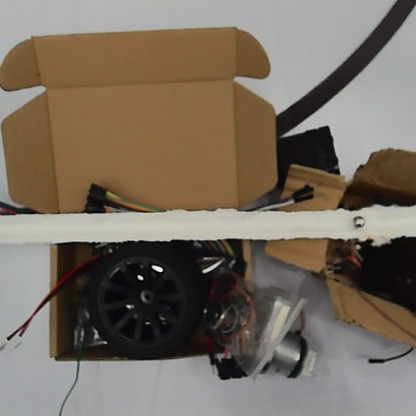ironball: (350, 213, 367, 229)
